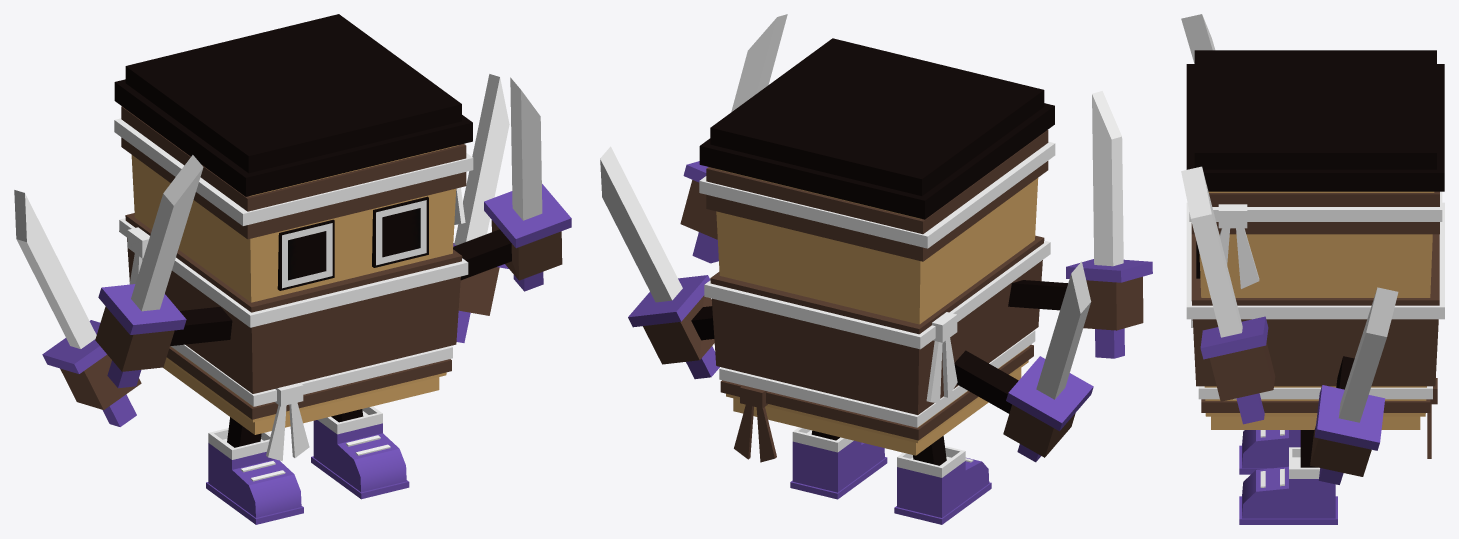
The model's file is Cappuccino_Assassino.fbx.
3 renders of one model, left to right at view 1: azimuth 30°, elevation 25°; view 2: azimuth 150°, elevation 25°; view 3: azimuth 270°, elevation 25°, orthographic.
Visible parts, largest first — view 1: Cappuccino_Assassino; view 2: Cappuccino_Assassino; view 3: Cappuccino_Assassino.
Part boxes in pixels (bbox=[...]): Cappuccino_Assassino: bbox=[14, 14, 571, 524]; Cappuccino_Assassino: bbox=[600, 14, 1152, 524]; Cappuccino_Assassino: bbox=[1181, 14, 1444, 524].
Bounding box in the file's own units: 1.47 × 1.18 × 0.7067.
